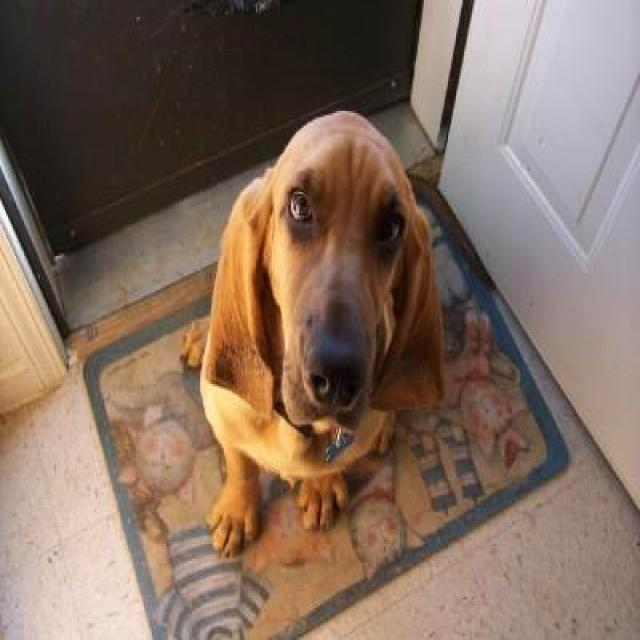bloodhound: (180, 100, 450, 554)
